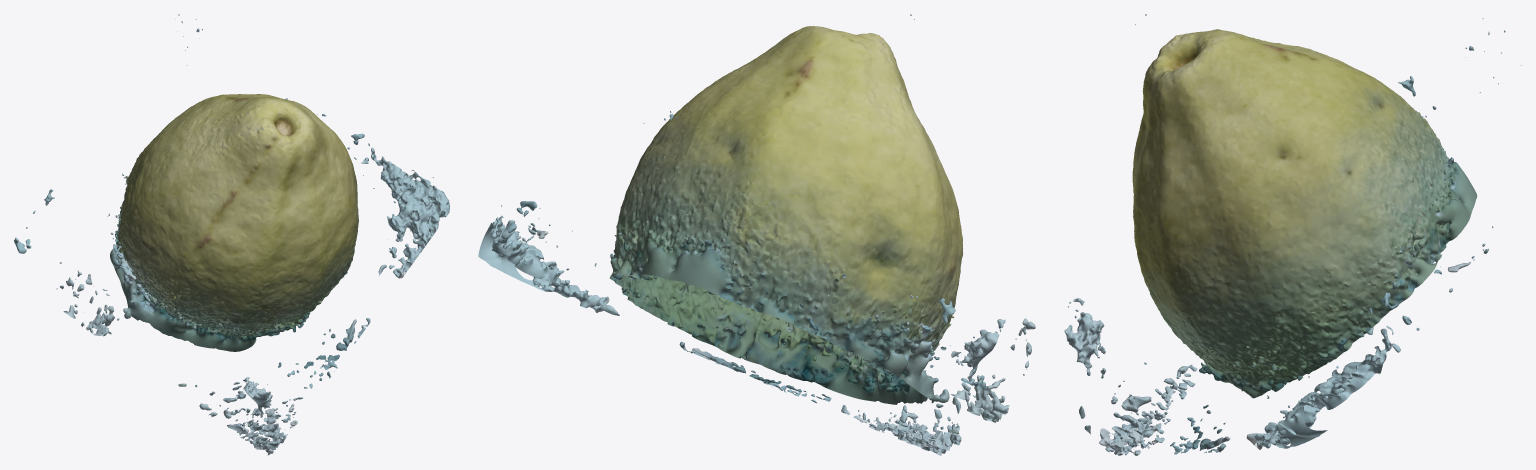
File: guava-2.glb
3 views of the same model, side by side, from view 1: azimuth 30°, elevation 25°; view 2: azimuth 150°, elevation 25°; view 3: azimuth 270°, elevation 25° (orthographic). The views are drawn at different scales.
Parts seen in each view (by area): view 1: Object_2; view 2: Object_2; view 3: Object_2.
Boxes of the visible parts, <box> form: Object_2: <box>14,14,449,455</box>; Object_2: <box>478,14,1035,455</box>; Object_2: <box>1064,14,1521,455</box>.
Bounding box in the file's own units: 10.32 × 8.29 × 7.44.
